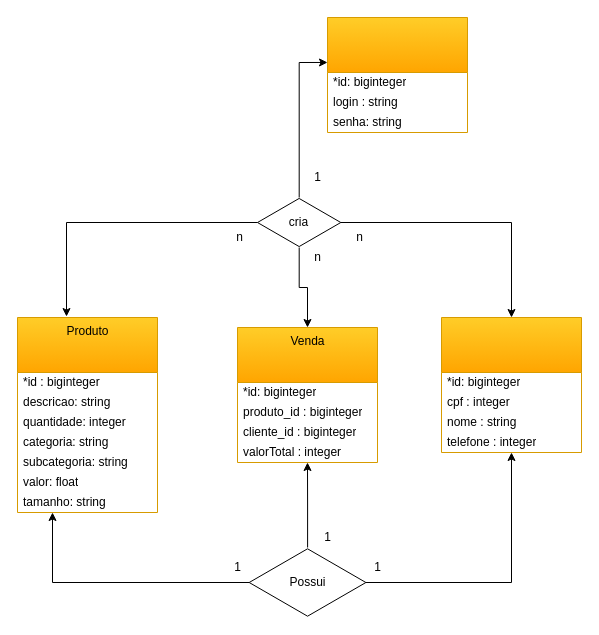
Some shapes in this 599 by 635 pixel diagram are drawn without their labels. The box of each missing label's shape, as (x1, y1, x2, y2) in pixels:
Cliente: (440, 316, 582, 452)
User: (326, 16, 468, 132)
